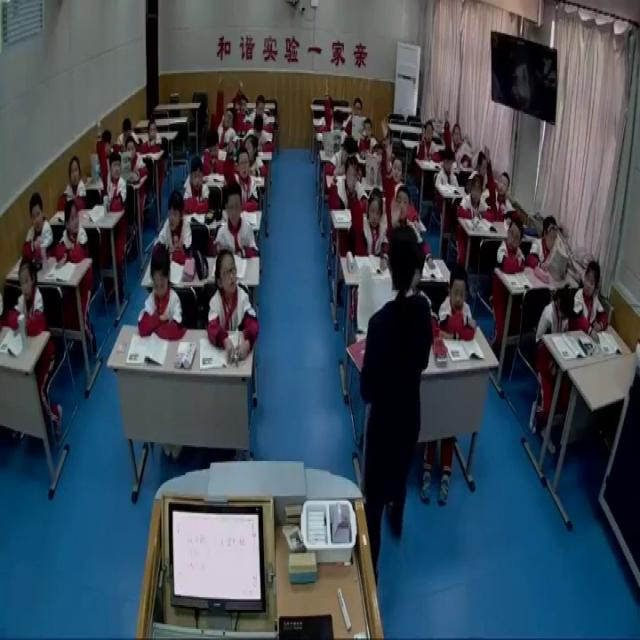distracted: (535, 280, 579, 341)
focused: (138, 244, 188, 343), (210, 252, 258, 353), (1, 257, 46, 336), (439, 264, 480, 346), (217, 184, 260, 260), (574, 260, 610, 339), (530, 214, 570, 284), (21, 194, 58, 265), (156, 196, 194, 256), (56, 202, 90, 268), (497, 213, 530, 276), (458, 172, 495, 224), (181, 156, 213, 214), (60, 156, 88, 212), (244, 114, 279, 158), (200, 128, 228, 182), (120, 139, 150, 183), (140, 117, 165, 155), (344, 96, 366, 138), (254, 94, 276, 133), (438, 150, 458, 188), (118, 118, 141, 150), (358, 120, 380, 152), (474, 150, 490, 189)
raising_hand: (382, 138, 419, 252), (345, 164, 391, 252), (95, 116, 129, 215), (224, 135, 261, 212), (330, 148, 372, 212), (483, 143, 515, 221), (378, 117, 407, 196), (214, 76, 237, 150), (322, 78, 347, 143), (443, 107, 467, 158), (414, 118, 440, 162), (232, 78, 250, 124)
